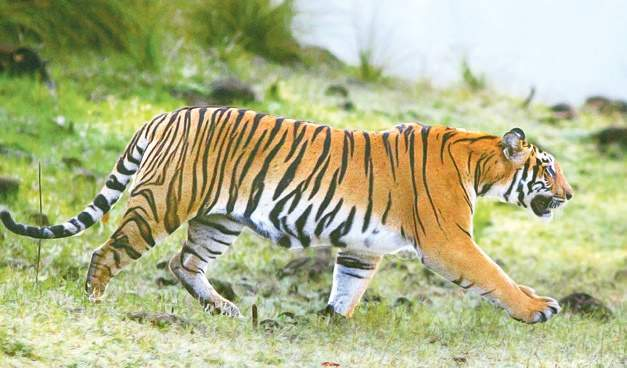Tiger: (40, 31, 591, 368)
